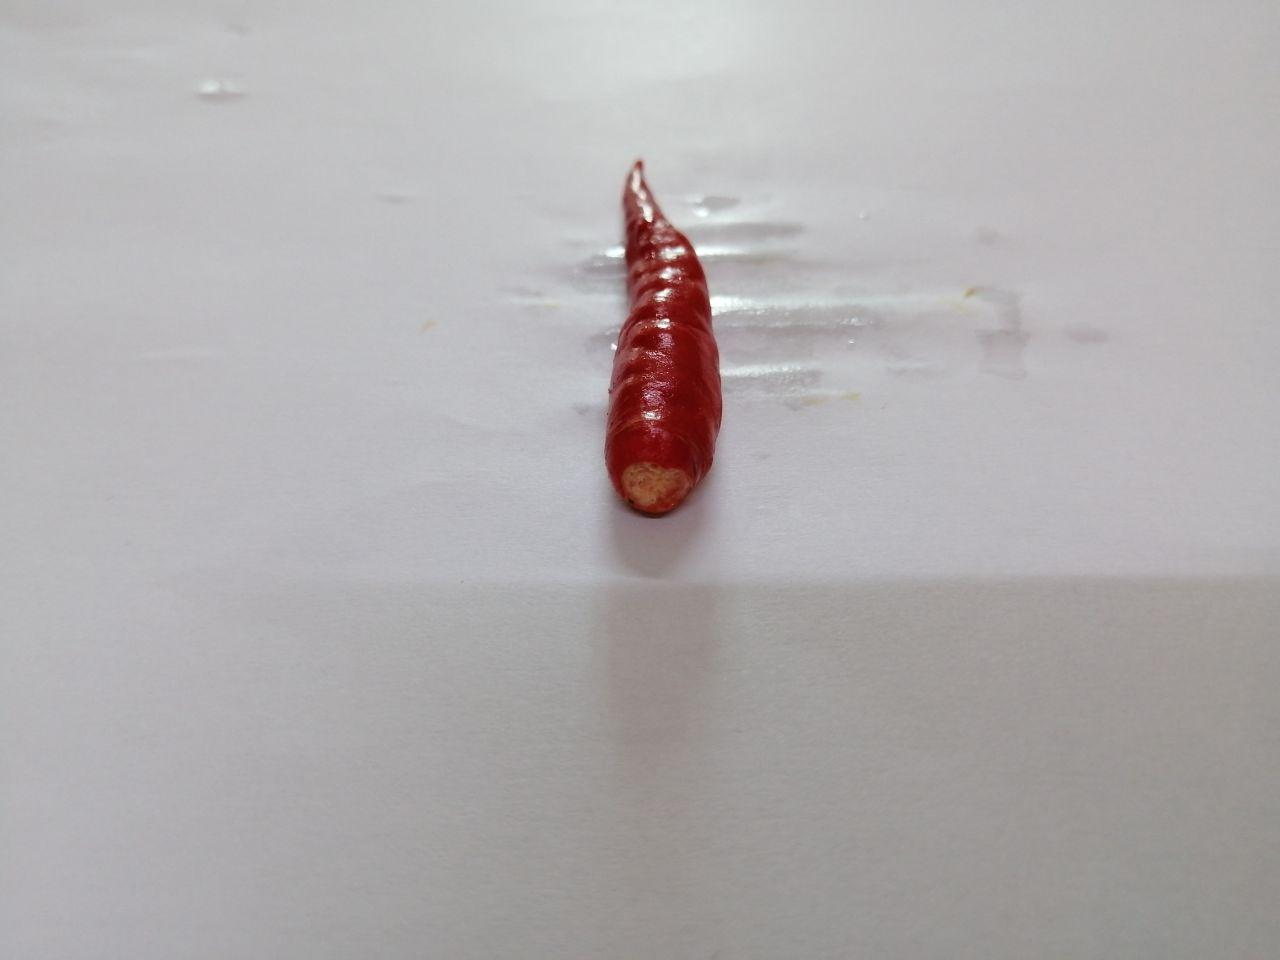lada merah: (594, 137, 740, 541)
